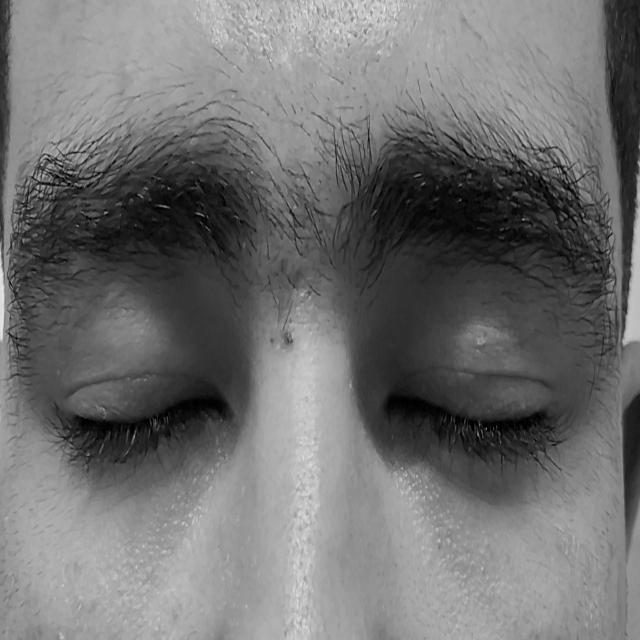real: (27, 116, 606, 566)
